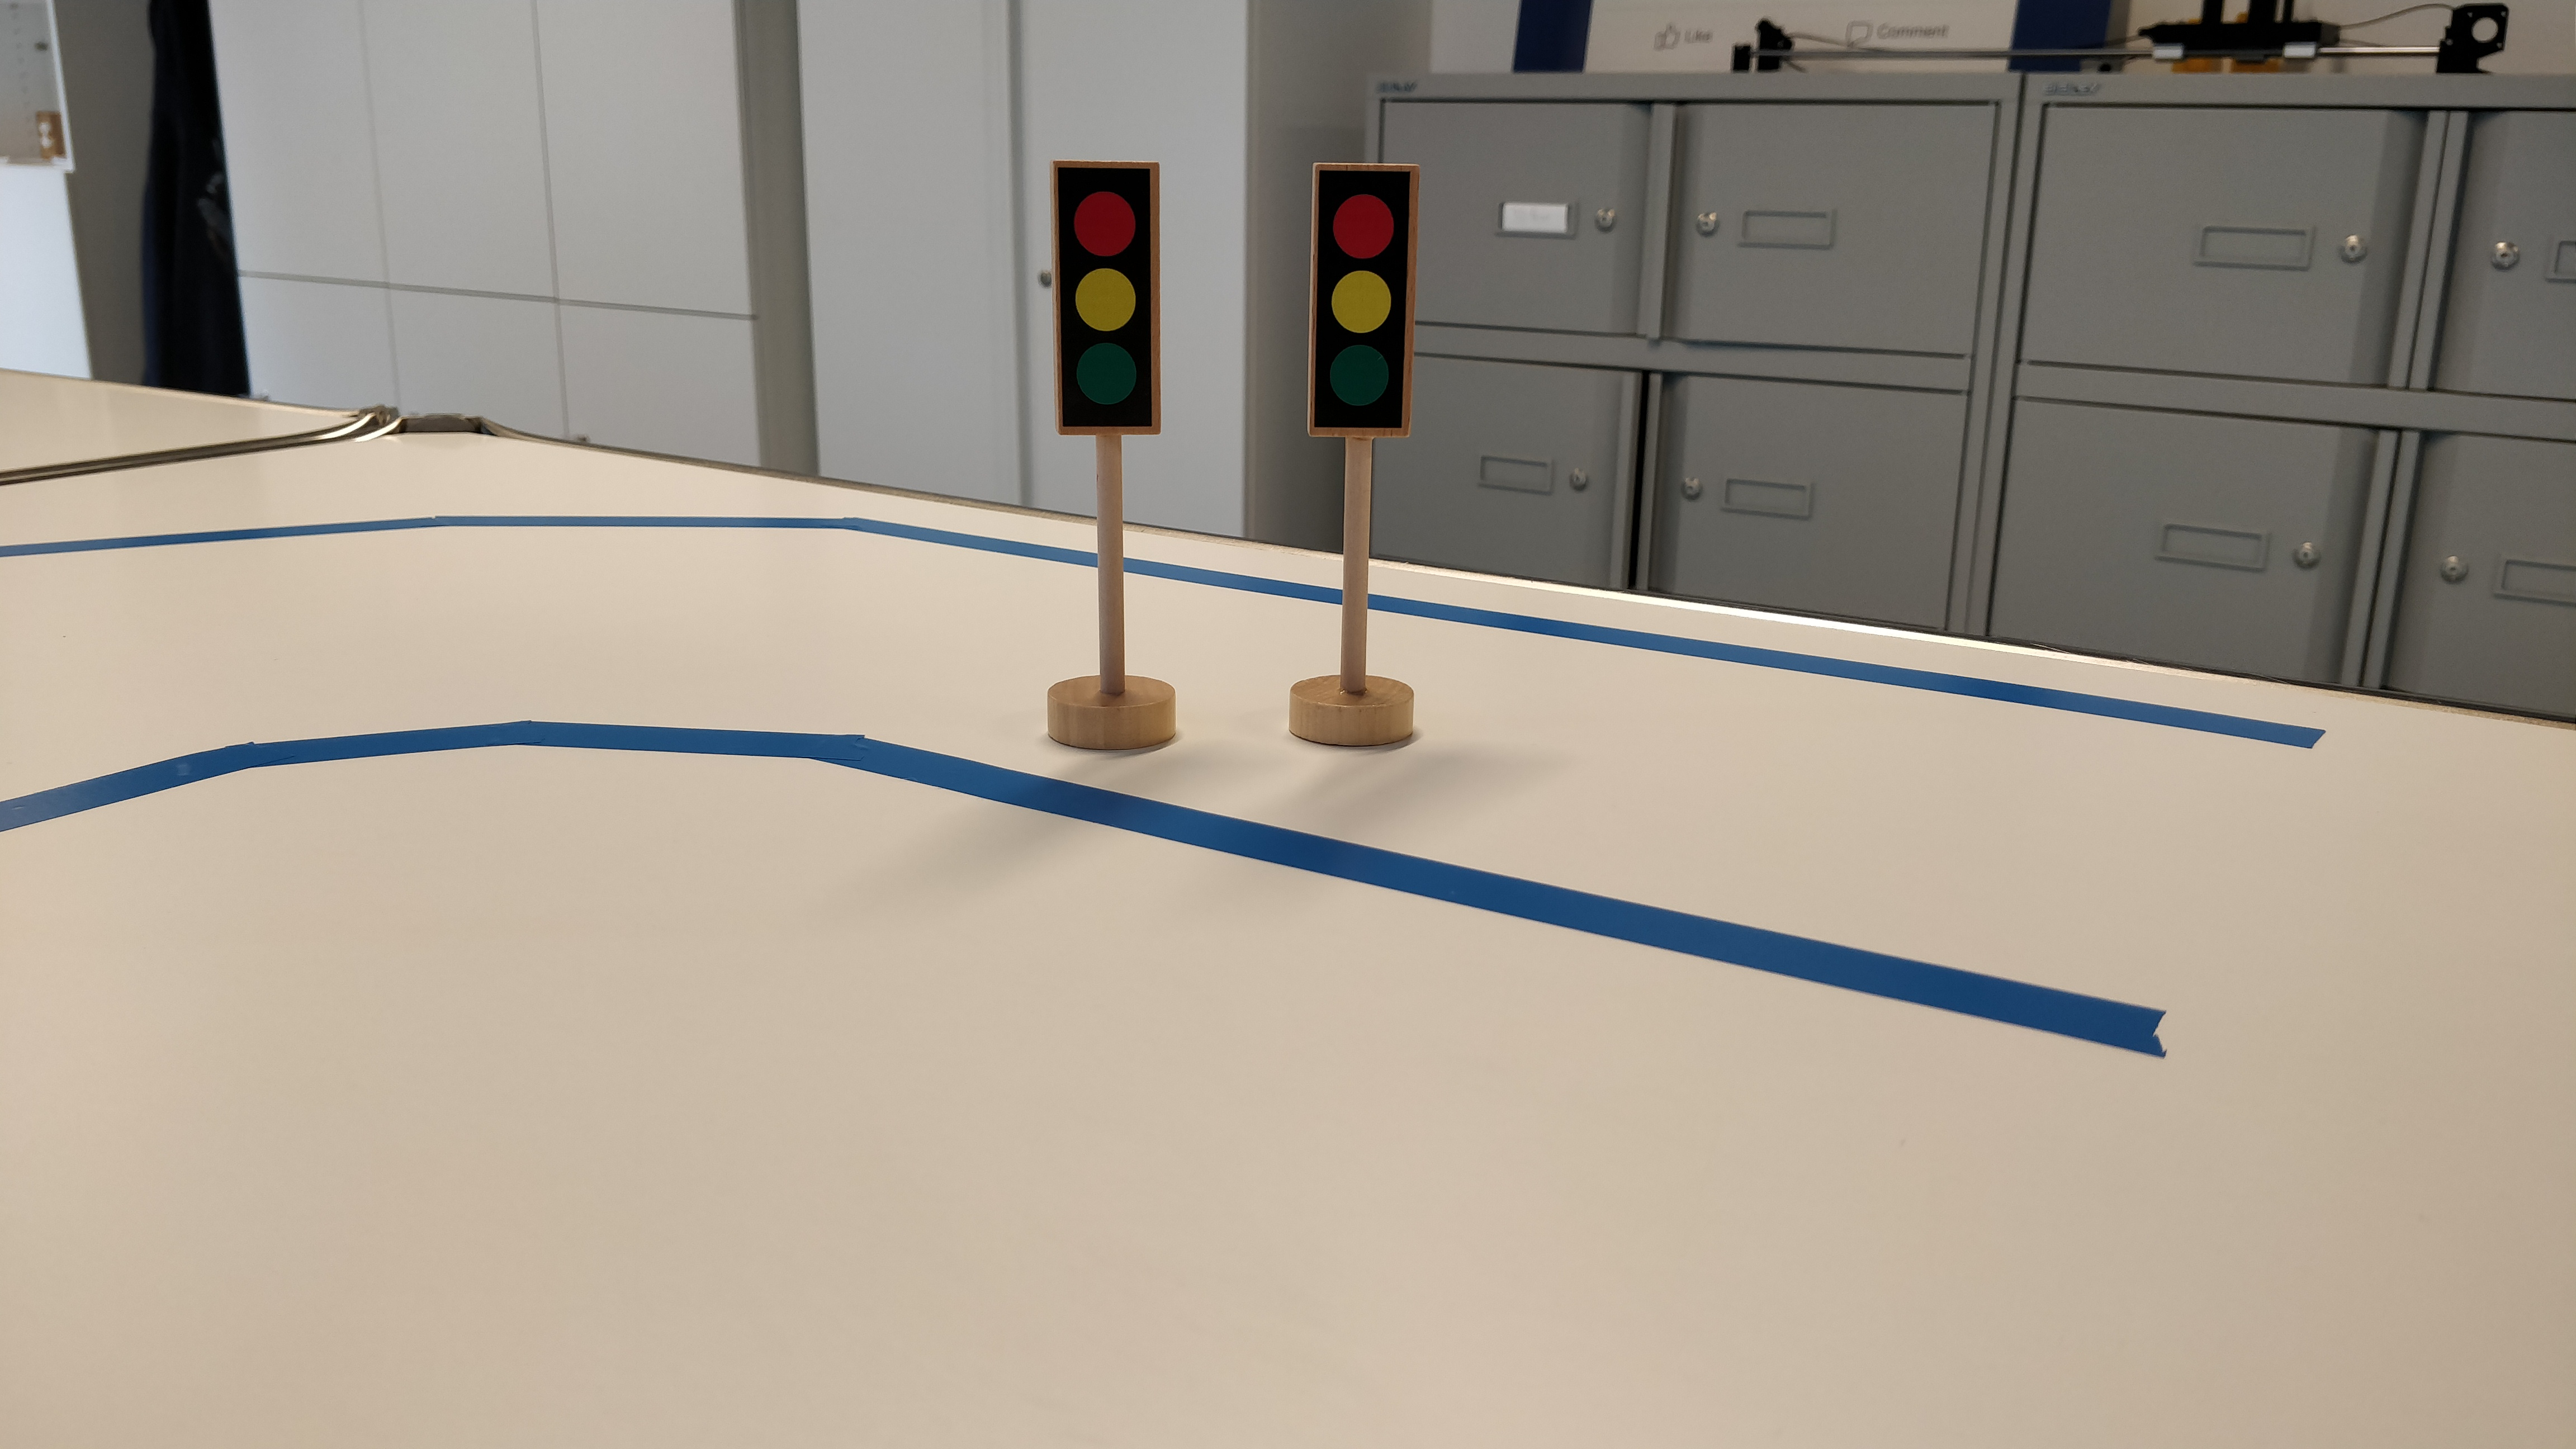Traffic Light: (1043, 152, 1170, 443), (1300, 153, 1420, 442)
